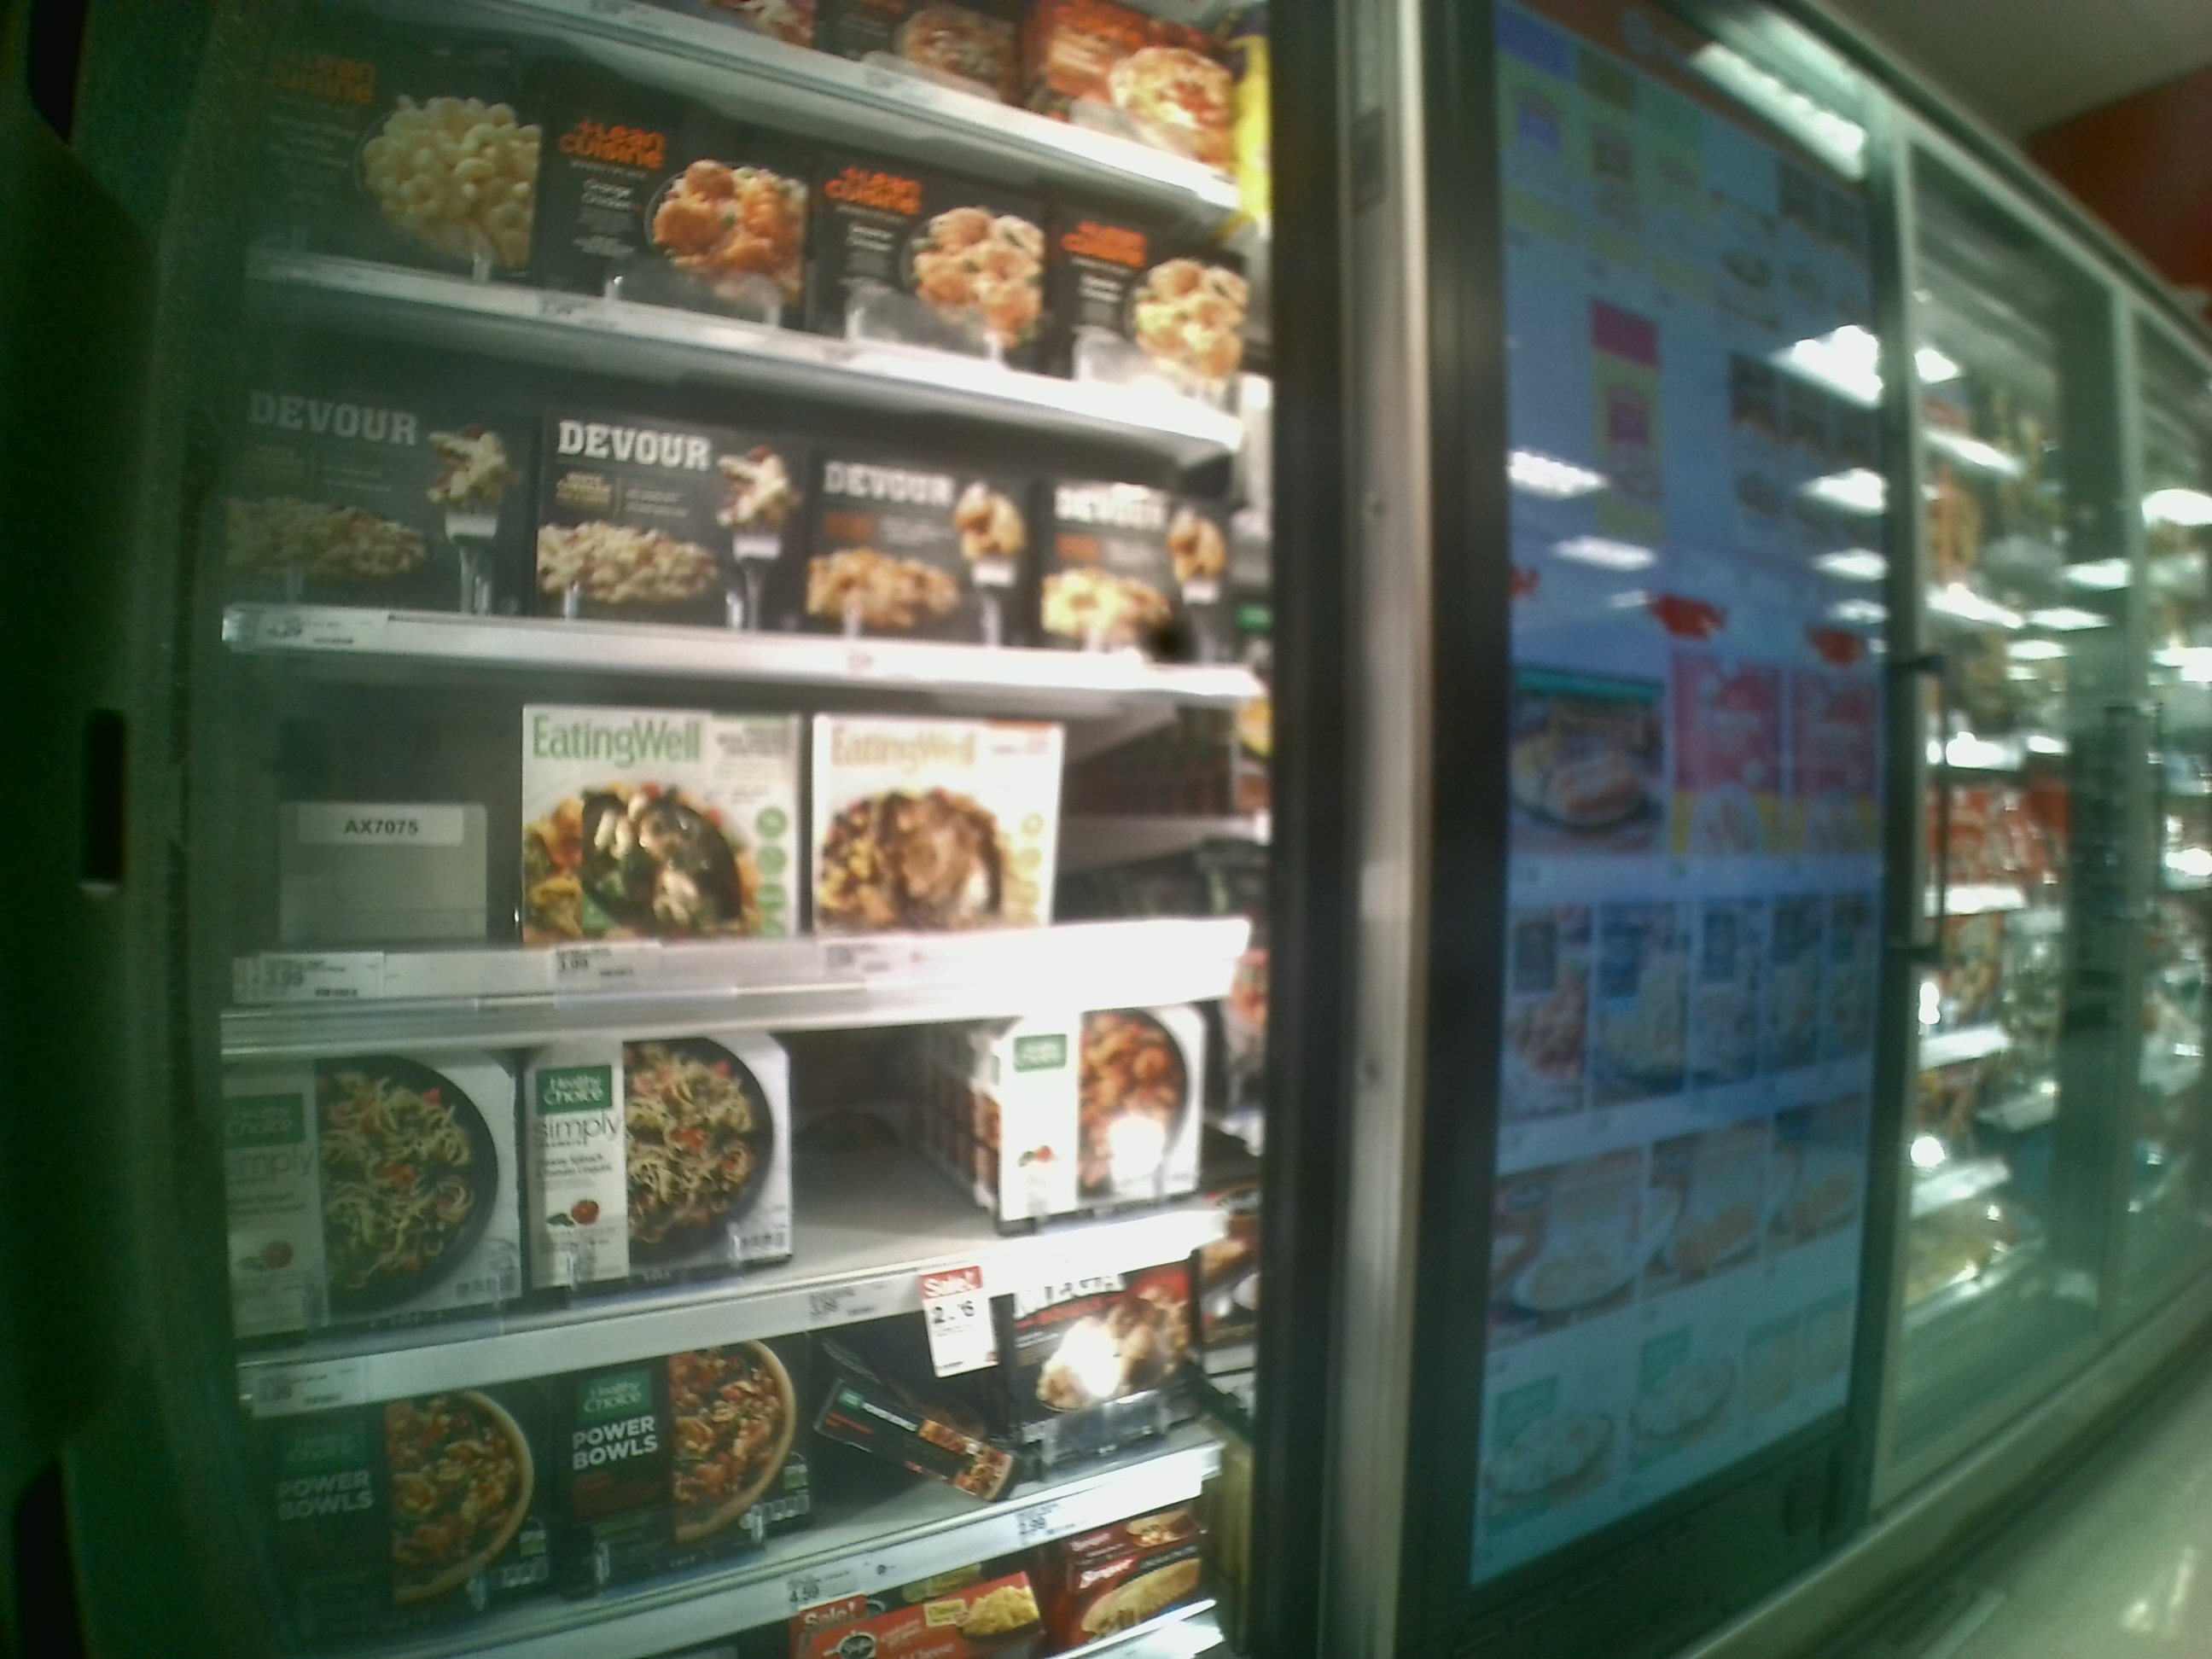shelf: (225, 986, 1280, 1422), (246, 268, 1259, 701), (214, 650, 1292, 1030)
